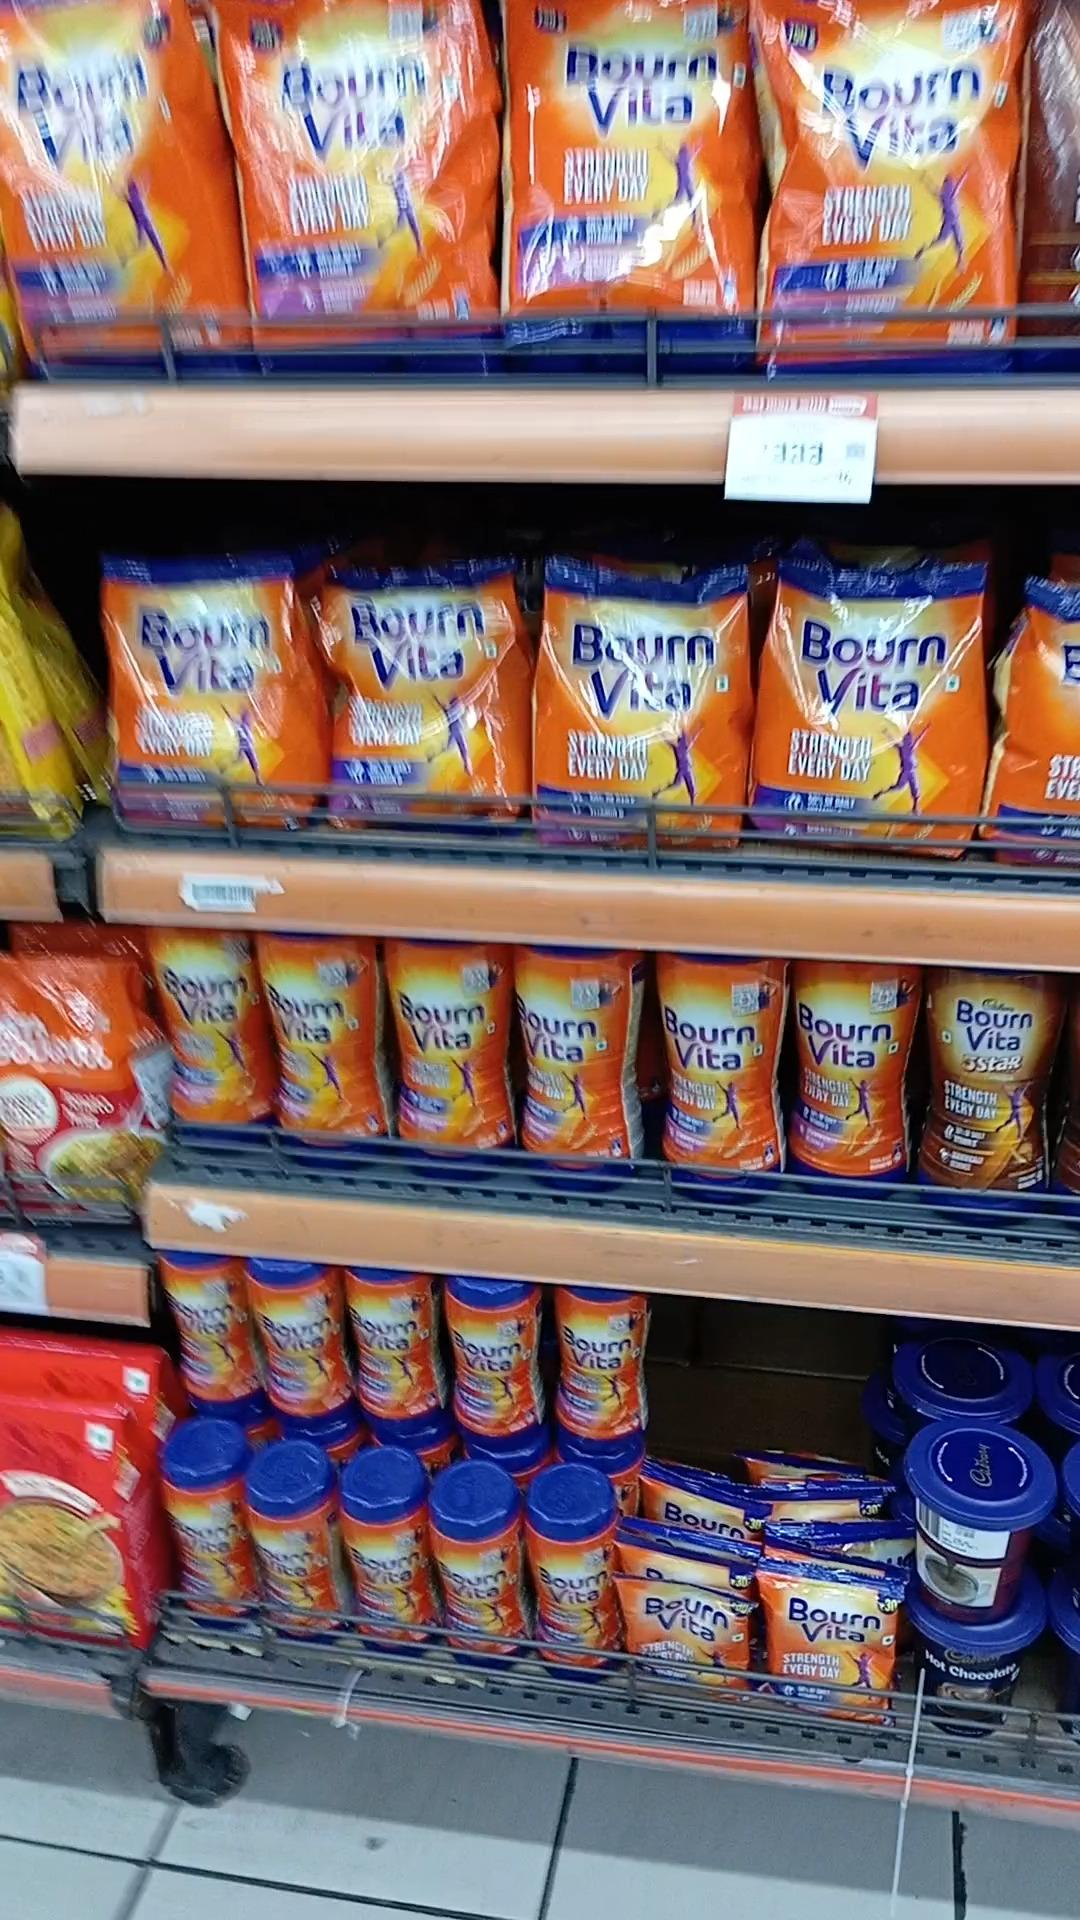BOURN_VITA_200_G_JAR: (162, 1470, 243, 1654), (534, 1505, 613, 1688), (558, 1280, 641, 1451), (447, 1279, 530, 1444), (342, 1503, 422, 1673), (436, 1519, 513, 1687), (256, 1265, 331, 1431), (162, 1254, 239, 1416), (255, 1493, 328, 1656), (347, 1274, 422, 1432)
BOURN_VITA_500_G_JAR: (653, 953, 777, 1211), (510, 948, 633, 1201), (790, 957, 911, 1204), (385, 945, 505, 1187), (261, 934, 376, 1172), (152, 930, 249, 1147)
BOURN_VITA_500_G_POUCH: (760, 570, 976, 858), (539, 566, 741, 856), (319, 575, 502, 835), (103, 575, 285, 825)
BOURN_VITA_750_G_POUCH: (227, 0, 483, 377), (749, 0, 1022, 352), (498, 0, 744, 375), (0, 0, 222, 385)
BOURN_VITA_75_G_POUCH: (765, 1581, 884, 1733), (625, 1578, 742, 1700)
BOURN_VITA_FIVE_STAR_MAGIC_500_G_JAR: (927, 963, 1046, 1228)
